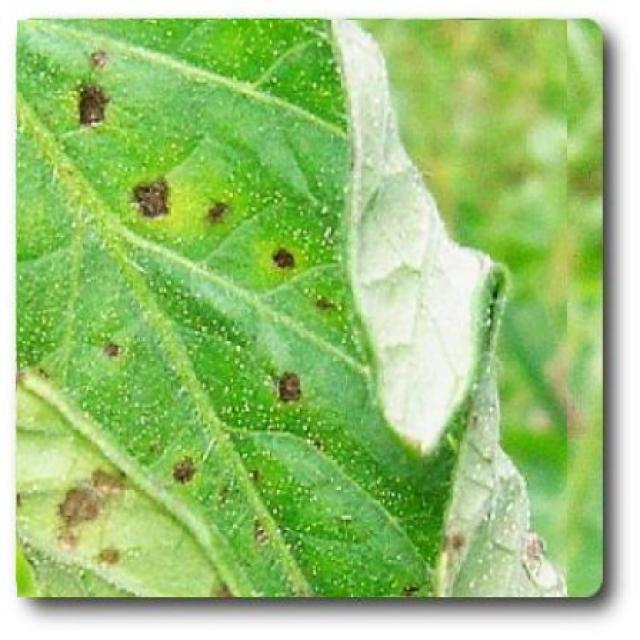Septoria: (17, 20, 567, 597)
